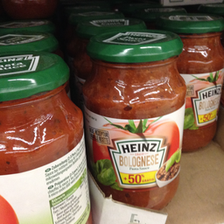tomato_sauce: (81, 28, 187, 210), (1, 50, 92, 224)
